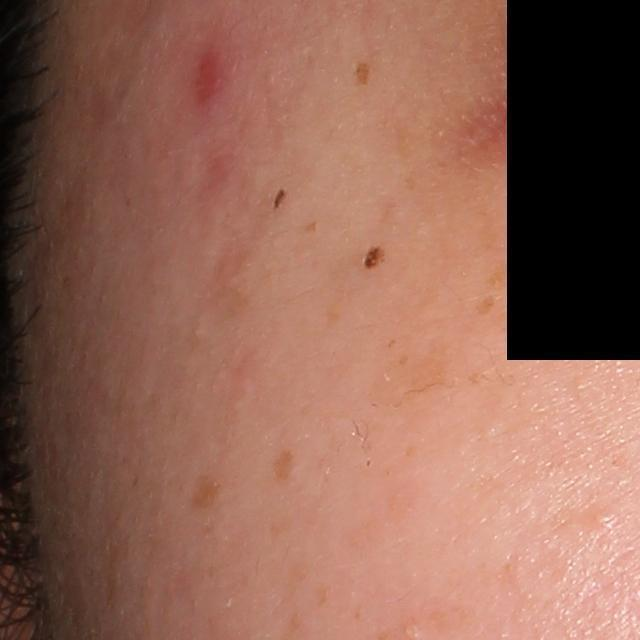comedo: (595, 508, 620, 531), (189, 323, 208, 344)
melasma: (180, 469, 229, 518), (267, 443, 301, 486), (354, 59, 376, 84), (475, 292, 497, 317), (302, 218, 320, 235)
nevus: (359, 241, 389, 272), (269, 185, 290, 213)
papule: (194, 50, 231, 103)
